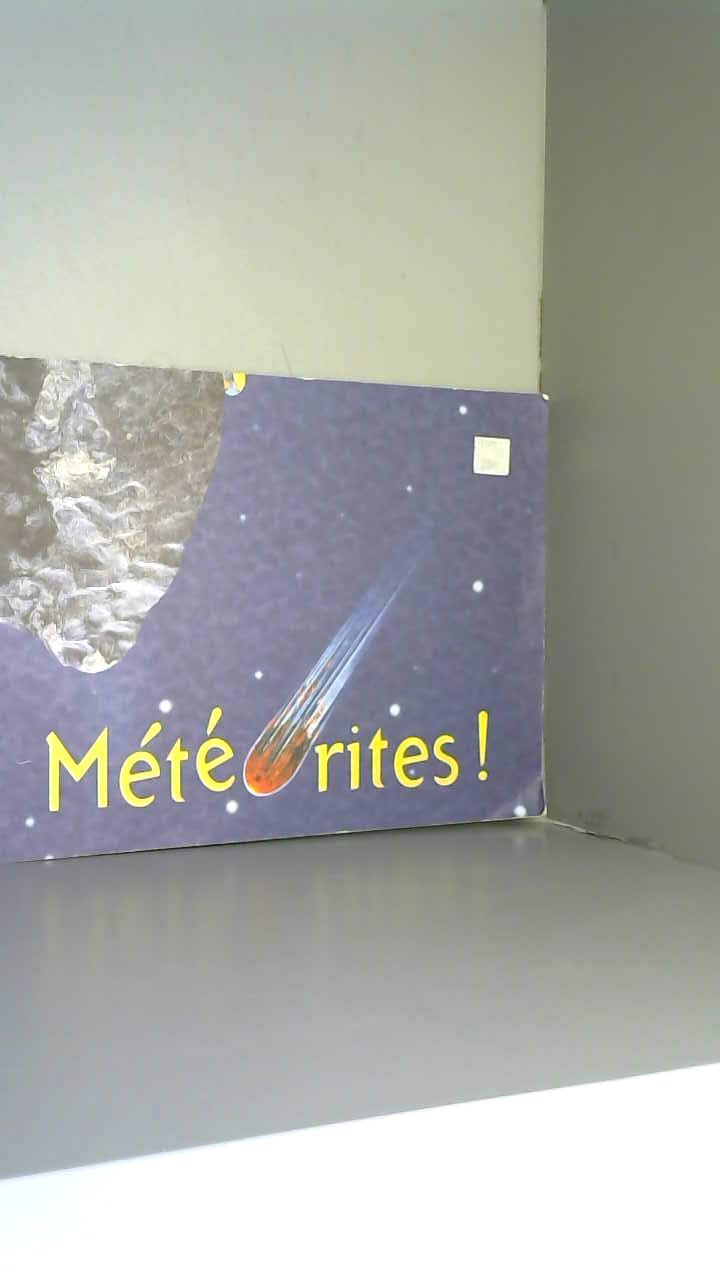book: (0, 312, 592, 897)
